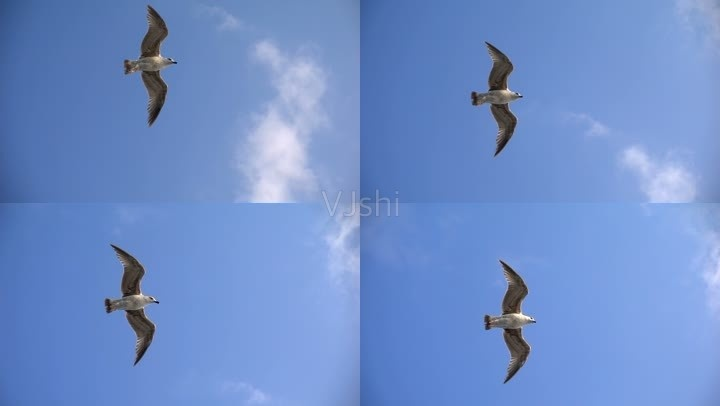bird: (478, 256, 537, 386), (102, 242, 161, 369), (119, 7, 181, 122), (461, 48, 525, 158)
